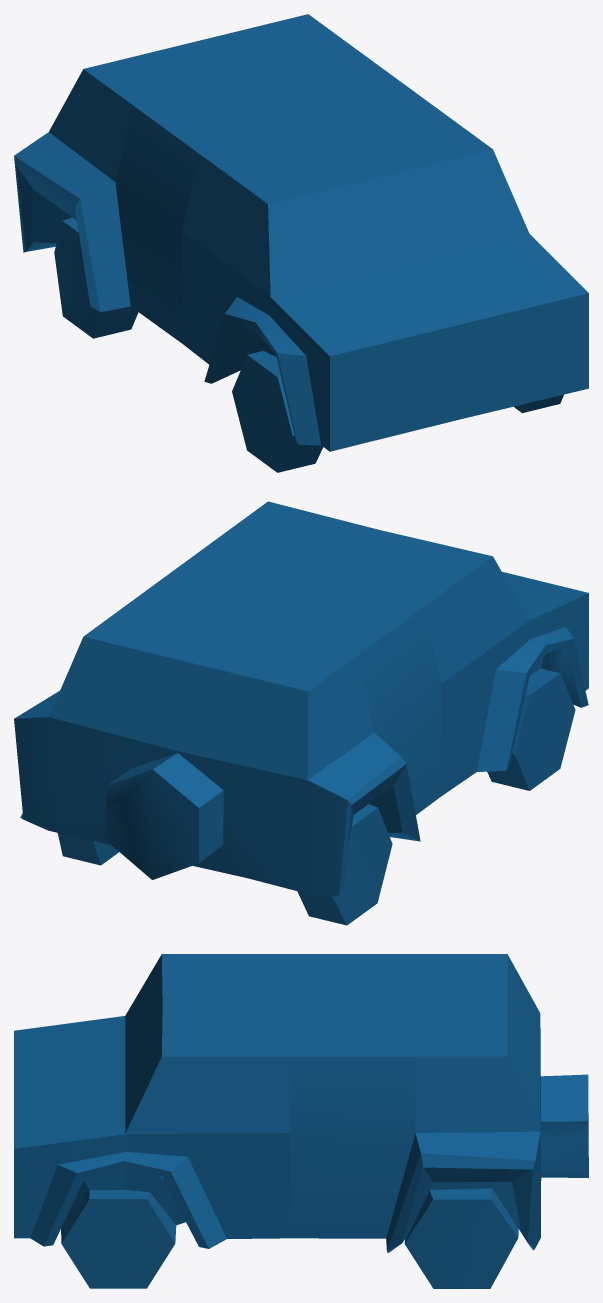
Rendered from bluecartest.fbx.
3 renders of one model, top to bottom at view 1: azimuth 30°, elevation 25°; view 2: azimuth 150°, elevation 25°; view 3: azimuth 270°, elevation 25°, orthographic. The views are drawn at different scales.
Parts seen in each view (by area): view 1: pCube11; view 2: pCube11; view 3: pCube11.
Part boxes in pixels (x1,y1,x2,y2): pCube11: (14,14,588,472); pCube11: (14,501,588,925); pCube11: (14,954,588,1288).
Bounding box in the file's own units: 123 × 82.18 × 196.
